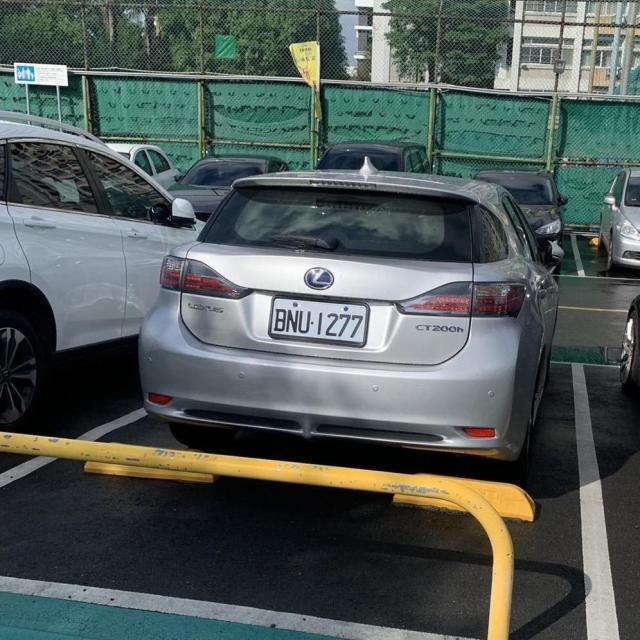W: (265, 289, 373, 350)
